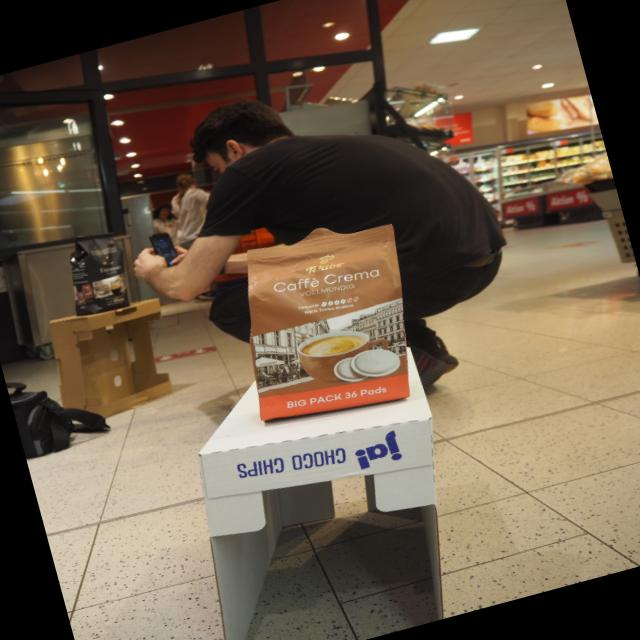CC Vollmundig: (239, 204, 419, 429)
